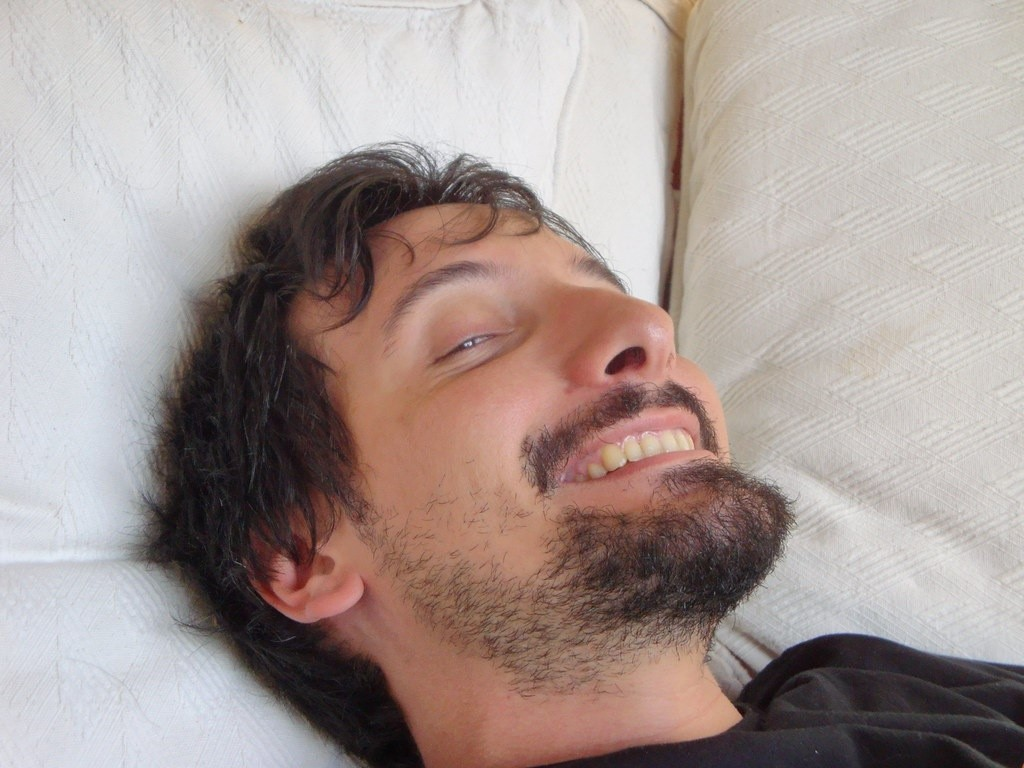face_no_mask: (170, 147, 794, 670)
